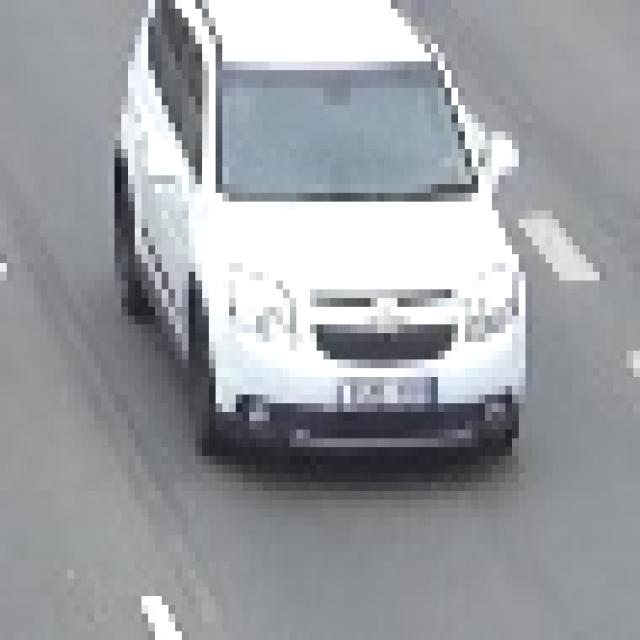SUV: (130, 8, 516, 450)
